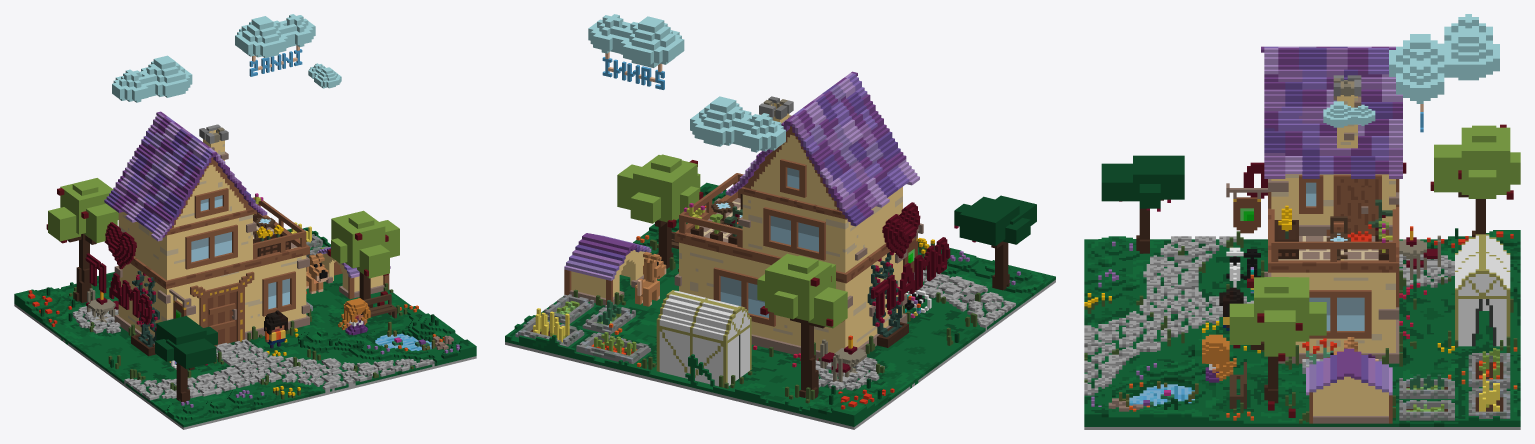
Rendered from love.gltf.
3 renders of one model, left to right at view 1: azimuth 30°, elevation 25°; view 2: azimuth 150°, elevation 25°; view 3: azimuth 270°, elevation 25°, orthographic. The views are drawn at different scales.
Visible parts, largest first — view 1: love-merged-1; view 2: love-merged-1; view 3: love-merged-1.
Part boxes in pixels (x1,y1,x2,y2): love-merged-1: (14,14,476,429); love-merged-1: (505,14,1055,429); love-merged-1: (1084,14,1520,429).
Bounding box in the file's own units: 126 × 109 × 126.
2 materials, 1 textured.
